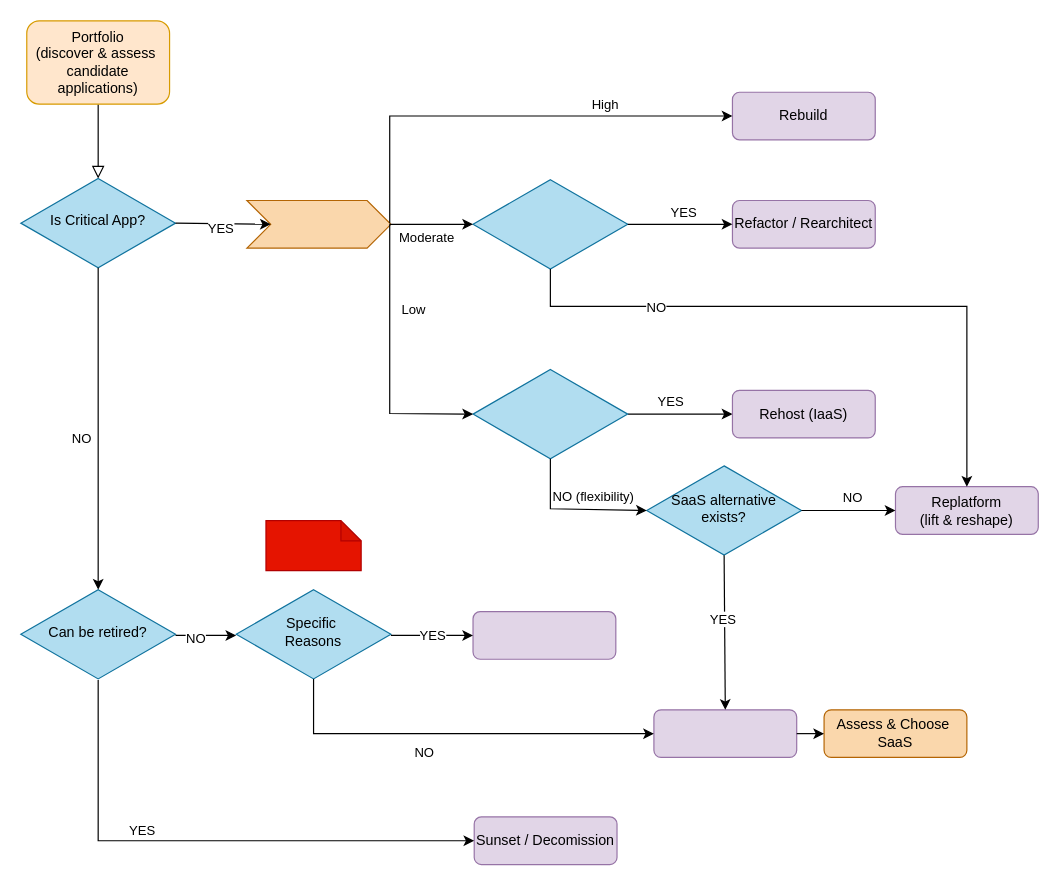
Some shapes in this 1059 by 885 pixel diagram are drawn without their labels. The centre of each missing label's shape, as x and y in pixels:
Assess Complexity: point 318,223
Cloud-native essential?: point 550,223
compliance, legal, security etc: point 313,545
Repurchase (drop & shop): point 725,733
Retain (as is): point 544,634
Time & Resource Constraints exist?: point 550,413
